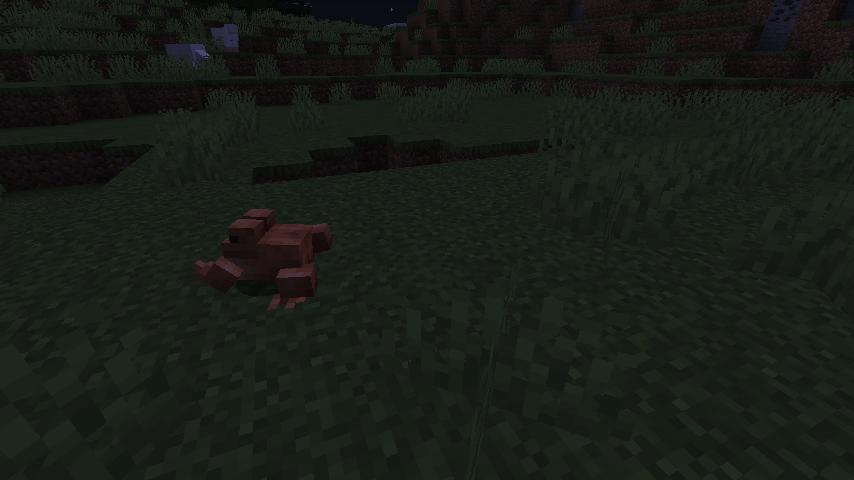frog: (188, 203, 339, 319)
sheep: (164, 41, 212, 74), (208, 23, 242, 55)
